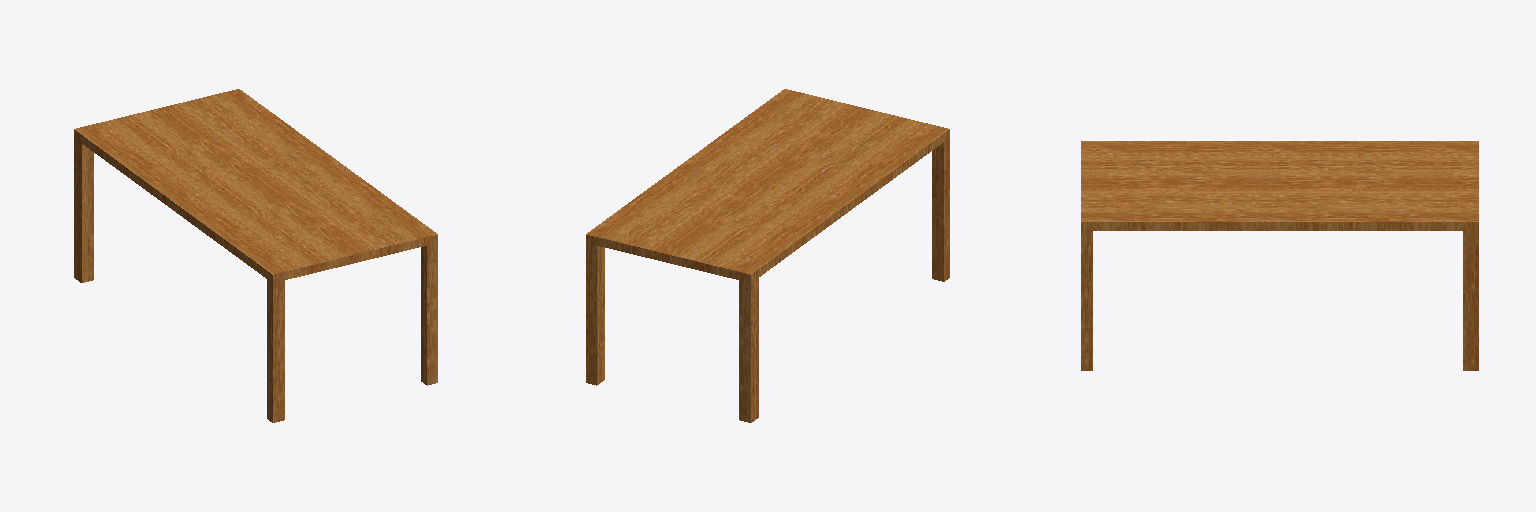
The picture shows the model from 3 angles: view 1: azimuth 30°, elevation 25°; view 2: azimuth 150°, elevation 25°; view 3: azimuth 270°, elevation 25°; orthographic projection.
Parts seen in each view (by area): view 1: Cube; view 2: Cube; view 3: Cube.
Boxes of the visible parts, <box> form: Cube: <box>74,89,437,422</box>; Cube: <box>586,89,949,422</box>; Cube: <box>1081,141,1478,370</box>.
Bounding box in the file's own units: 2.4 × 2.06 × 5.
Materials: 1 (1 with a texture image).